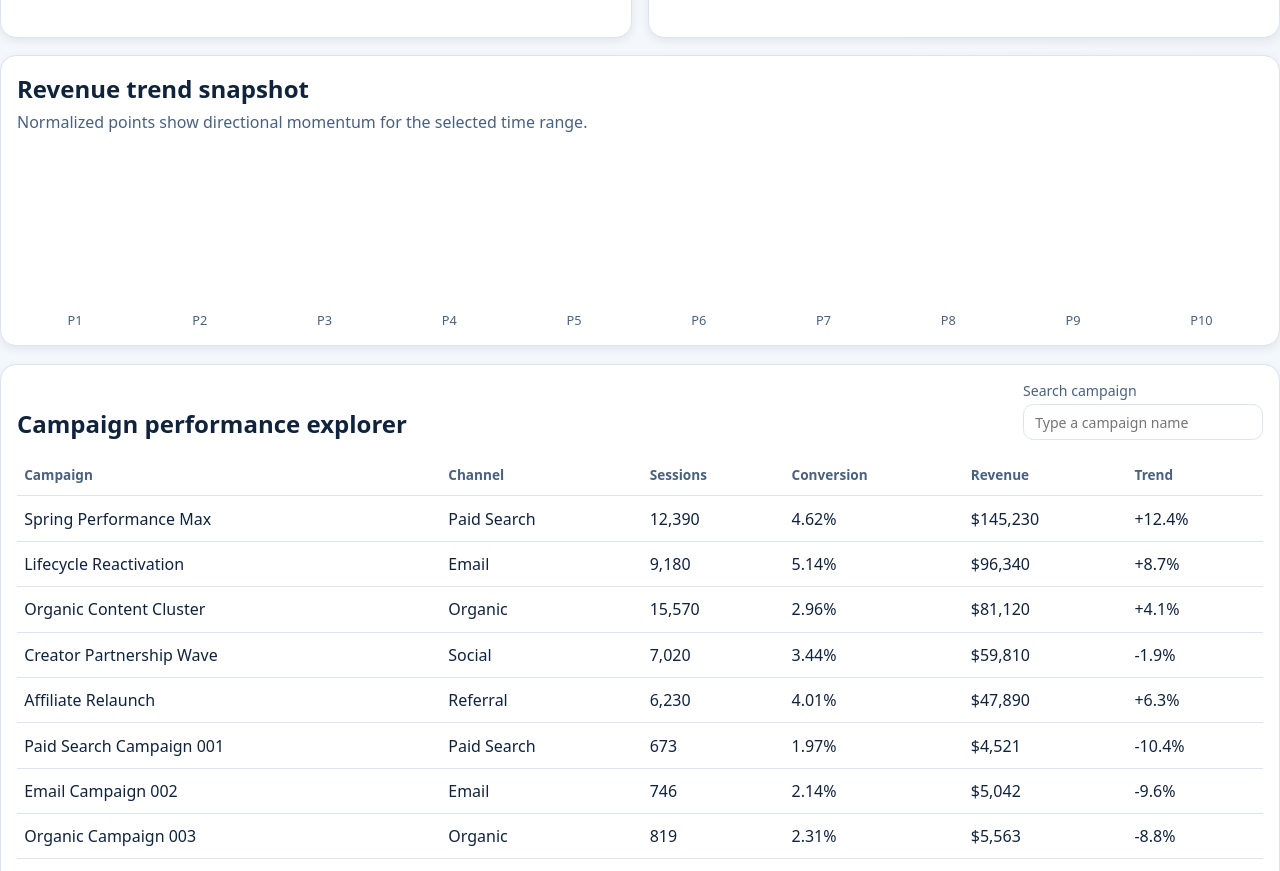
Test: DashboardPage › filters table rows by campaign search
(page scrolled)
Expected: the heading "Campaign performance explorer" is shown, [17,407,407,440]
Type "Lifecycle" into the search field with placeholder "Type a campaign name" at {"x": 1143, "y": 422}, box [1023,404,1263,440]
(page scrolled)
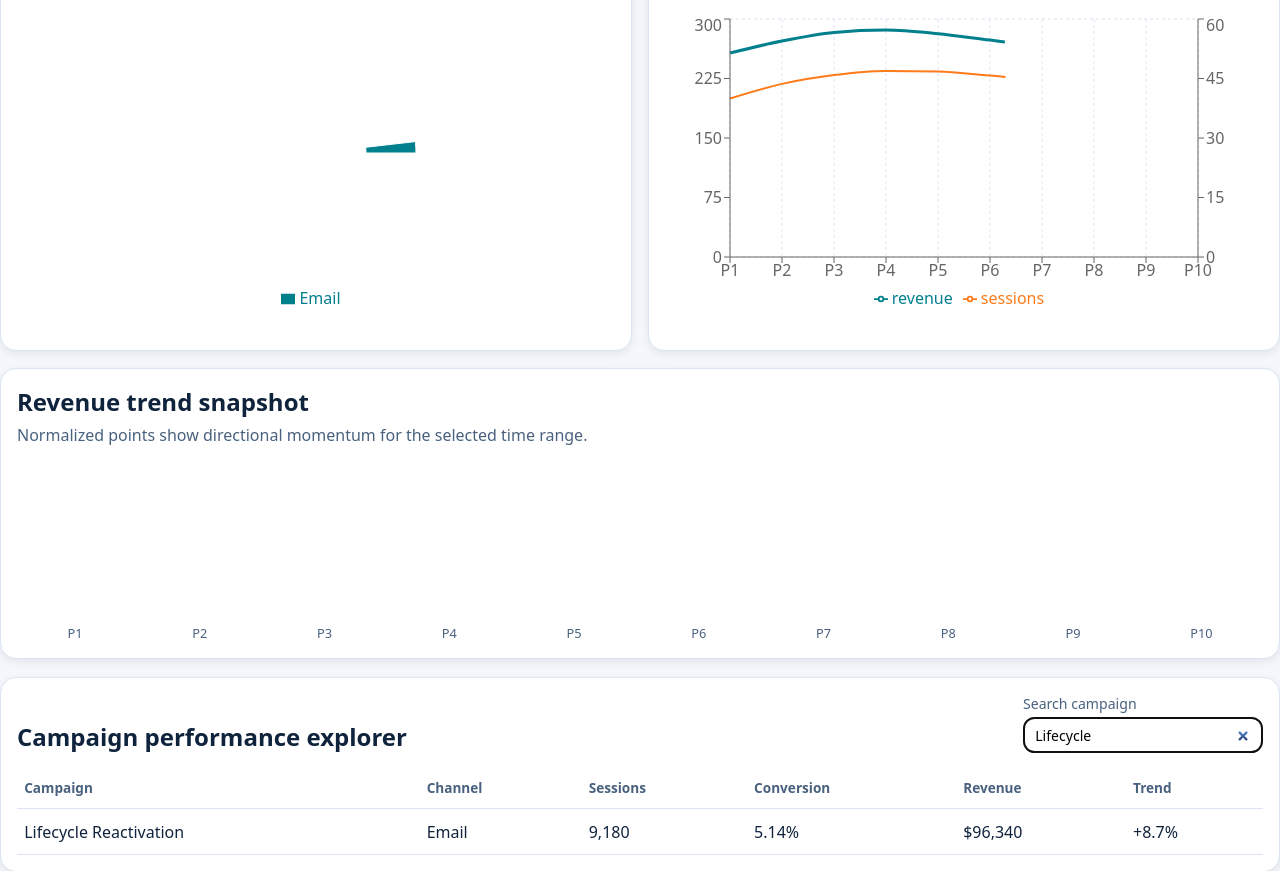
Result: the text "Lifecycle Reactivation" is shown at [17,809,419,854]
Result: the text "Affiliate Relaunch" is gone
